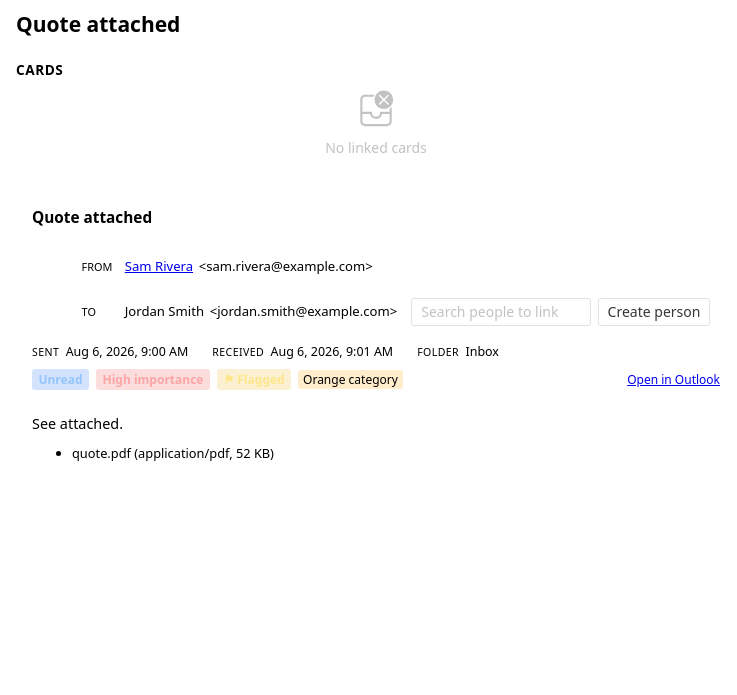
it: EmailConversationPage — link/create controls (US4) › the create-person control expands PersonForm prefilled from the display-name split and address
Click the button "Create person".
click(654, 312)  # box [598,298,710,326]
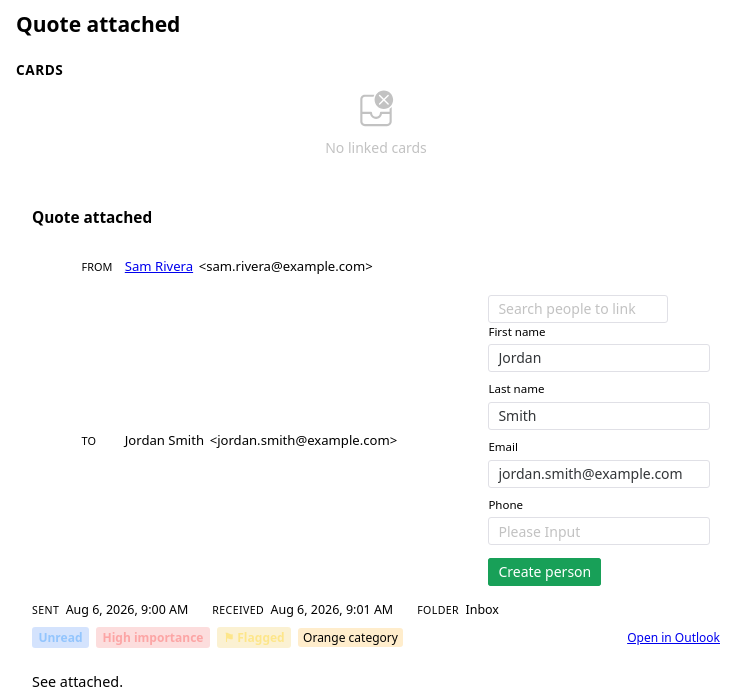
Result: the field labelled "First name" holds "Jordan" at [498,344,700,372]
Result: the field labelled "Last name" holds "Smith" at [498,402,700,430]
Result: the field labelled "Email" holds "jordan.smith@example.com" at [498,460,700,488]
